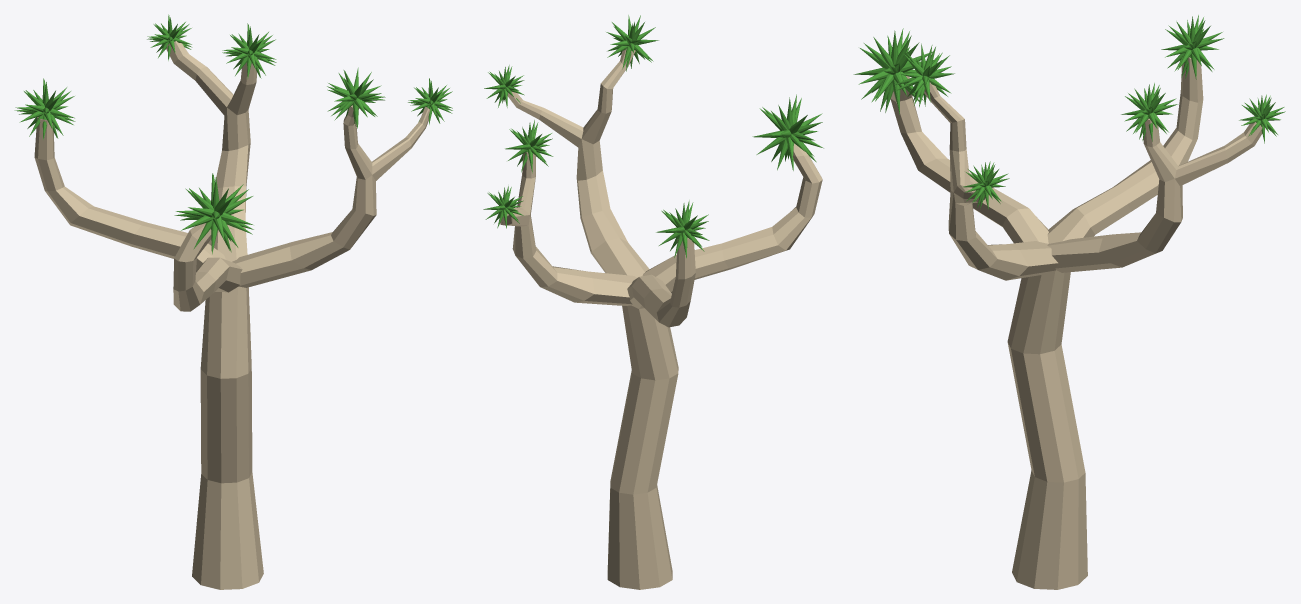
The model's file is JoshuaTree.fbx.
3 renders of one model, left to right at view 1: azimuth 30°, elevation 25°; view 2: azimuth 150°, elevation 25°; view 3: azimuth 270°, elevation 25°, orthographic. The views are drawn at different scales.
Visible parts, largest first — view 1: Joshua Tree; view 2: Joshua Tree; view 3: Joshua Tree.
Part boxes in pixels (box(x1,y1,x2,y2)): Joshua Tree: box(14, 14, 452, 589); Joshua Tree: box(483, 15, 823, 589); Joshua Tree: box(853, 15, 1285, 589).
Bounding box in the file's own units: 169 × 256 × 179.
